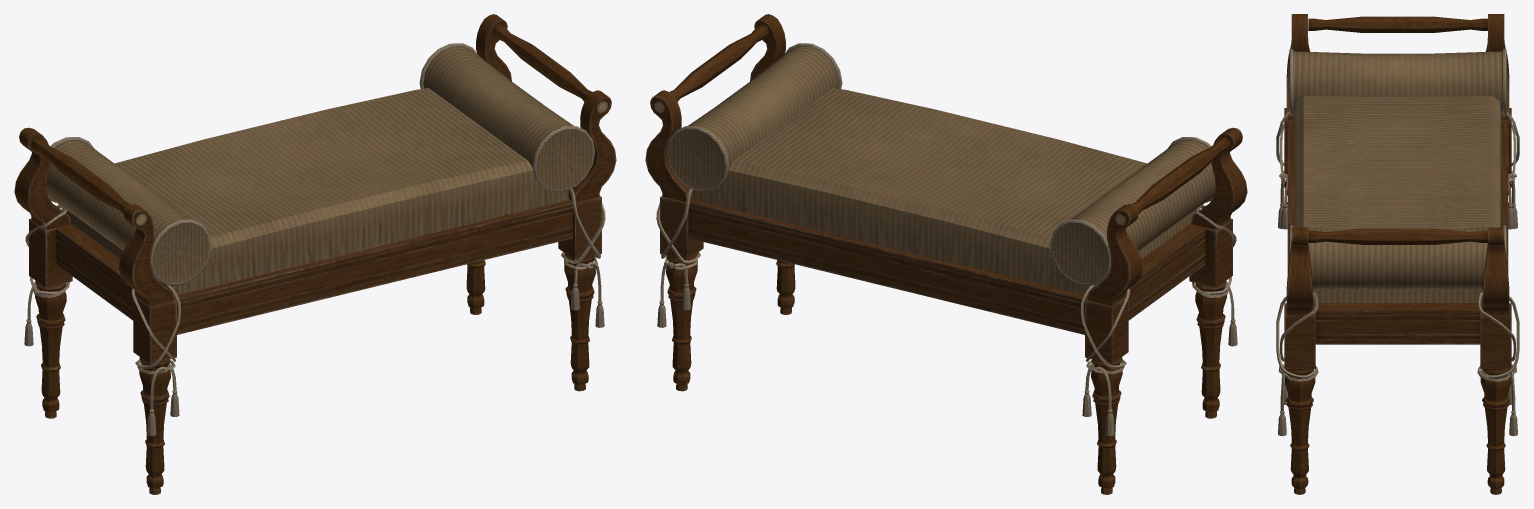
The model's file is bench-upholstered.glb.
3 views of the same model, side by side, from view 1: azimuth 30°, elevation 25°; view 2: azimuth 150°, elevation 25°; view 3: azimuth 270°, elevation 25° (orthographic). The views are drawn at different scales.
Visible parts, largest first — view 1: bench-upholstered; view 2: bench-upholstered; view 3: bench-upholstered.
Boxes of the visible parts, left/top/right/bottom form: bench-upholstered: left=14, top=14, right=616, bottom=494; bench-upholstered: left=645, top=14, right=1247, bottom=494; bench-upholstered: left=1276, top=14, right=1519, bottom=494.
Bounding box in the file's own units: 1.15 × 0.6554 × 0.5298.
1 material, 1 textured.
